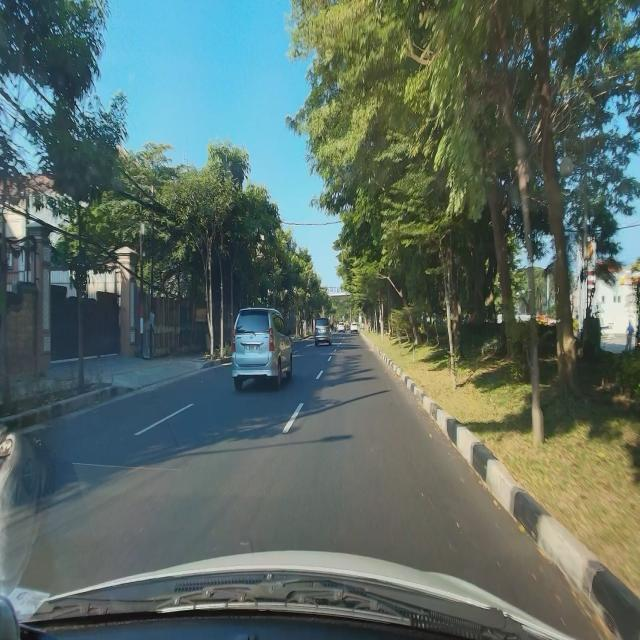car: (231, 306, 294, 392), (314, 317, 332, 348)
license-plate: (245, 344, 259, 354)
